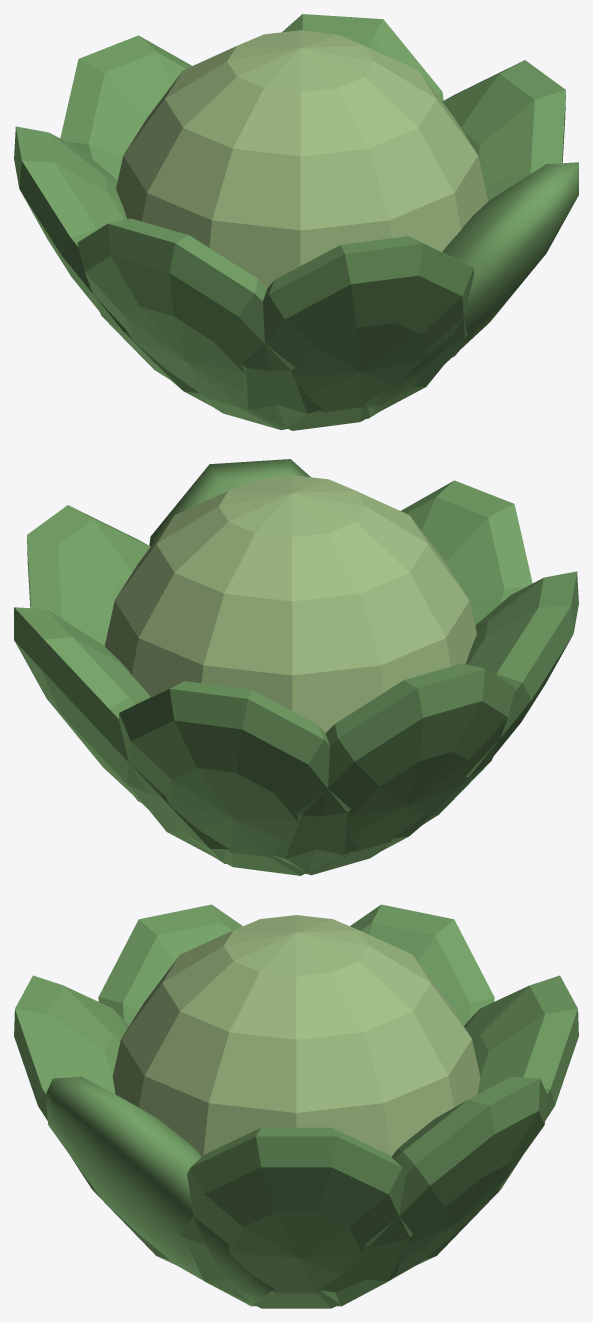
The model's file is Kohl.gltf.
The picture shows the model from 3 angles, top to bottom: view 1: azimuth 30°, elevation 25°; view 2: azimuth 150°, elevation 25°; view 3: azimuth 270°, elevation 25°; orthographic projection.
Visible parts, largest first — view 1: Kohl; view 2: Kohl; view 3: Kohl.
Boxes of the visible parts, left/top/right/bottom form: Kohl: left=14, top=14, right=578, bottom=430; Kohl: left=14, top=459, right=578, bottom=875; Kohl: left=14, top=904, right=578, bottom=1308.
Bounding box in the file's own units: 0.4643 × 0.3203 × 0.4759.
